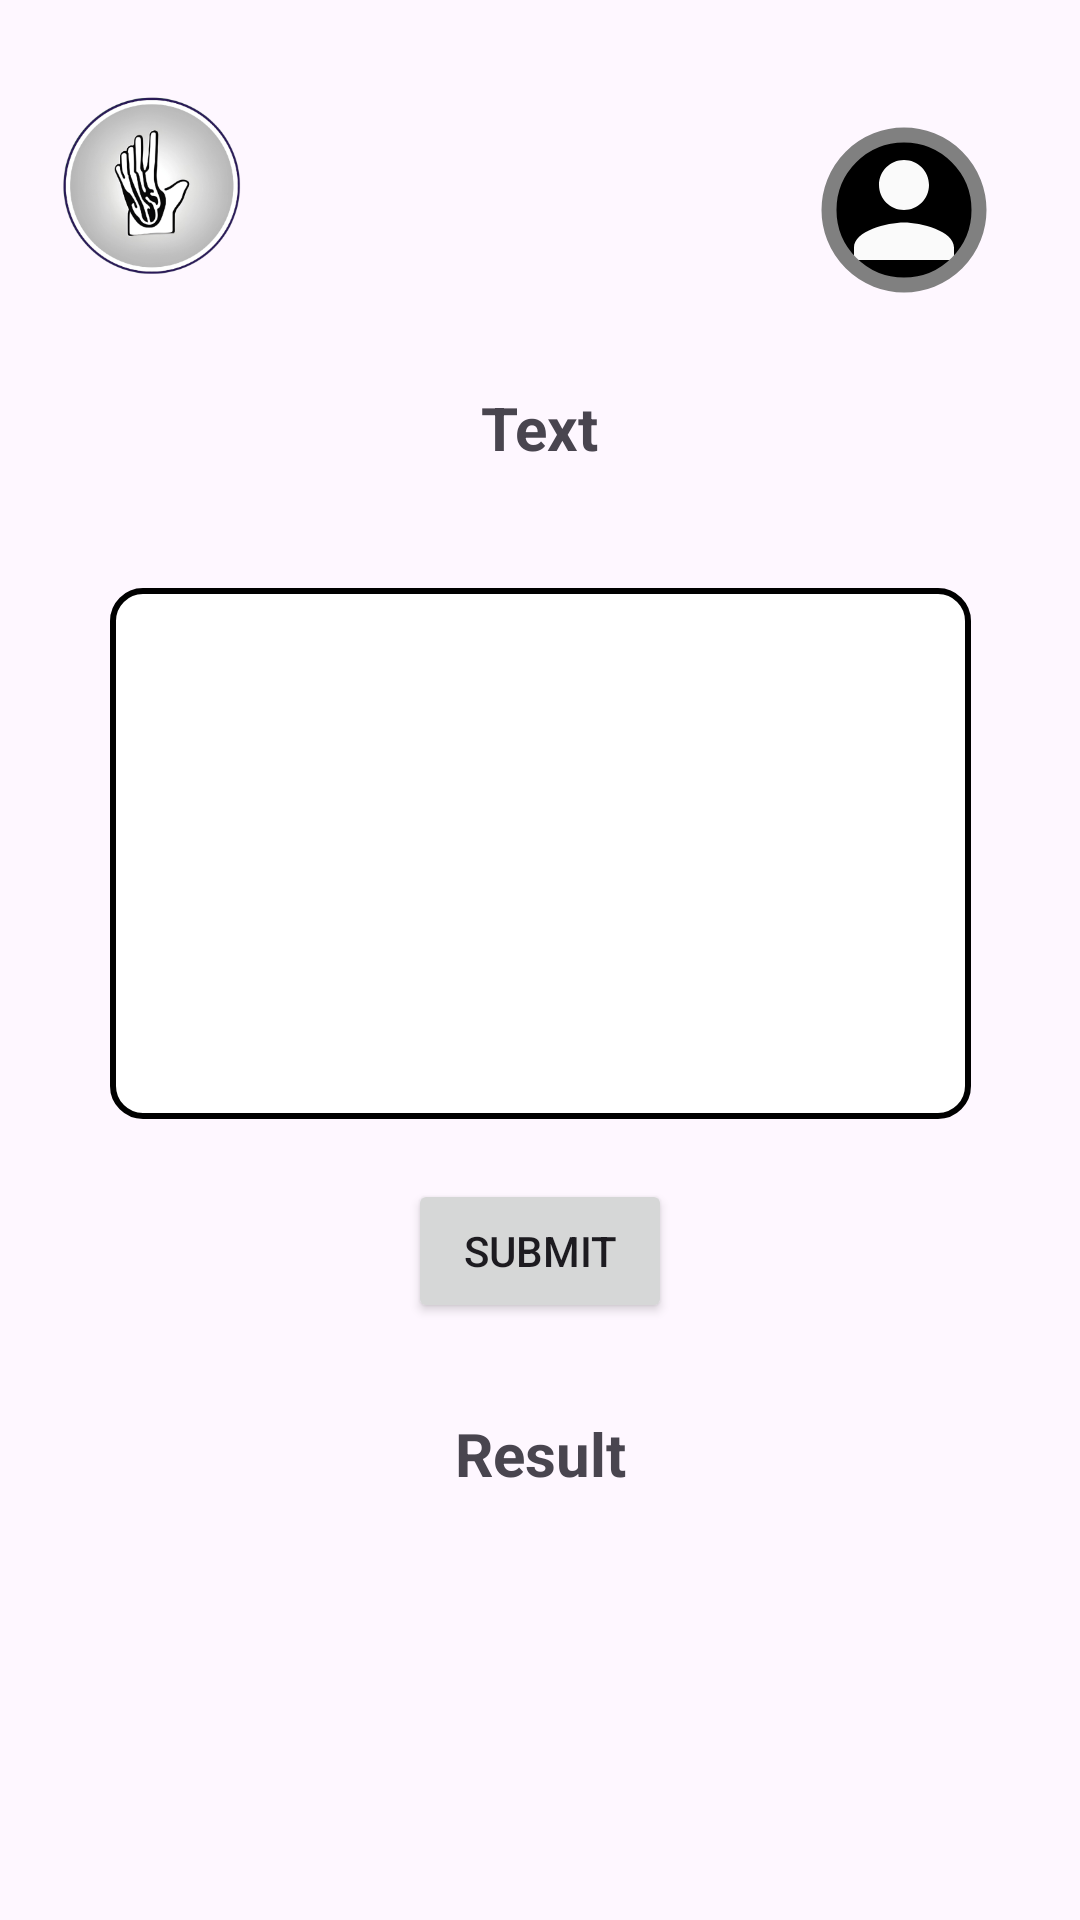

Icons on this 1080px x 1920px Android screen, each with its box as (x1, y1, x2, y2):
person: (821, 127, 987, 293)
